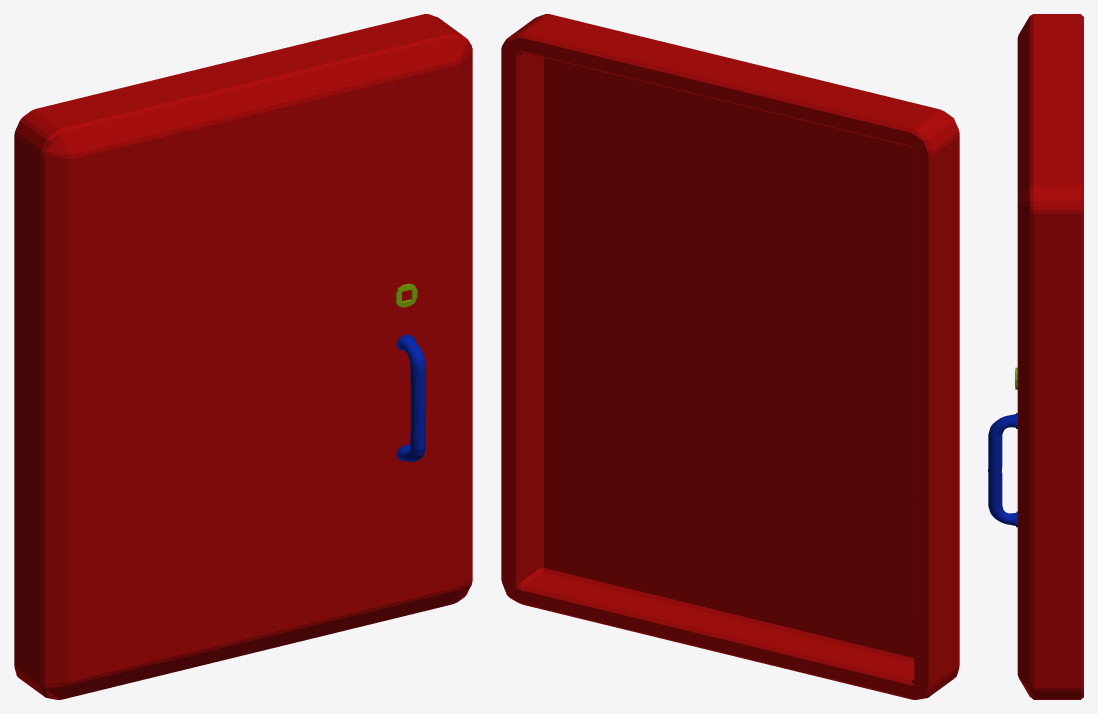
The model's file is ELECTRIC_BOX_DOOR.fbx.
The picture shows the model from 3 angles, left to right: view 1: azimuth 30°, elevation 25°; view 2: azimuth 150°, elevation 25°; view 3: azimuth 270°, elevation 25°; orthographic projection. The views are drawn at different scales.
Visible parts, largest first — view 1: EB_FRONT; view 2: EB_FRONT; view 3: EB_FRONT.
Part boxes in pixels (x1,y1,x2,y2): EB_FRONT: [14, 14, 472, 699]; EB_FRONT: [501, 14, 959, 699]; EB_FRONT: [988, 14, 1083, 699].
Size of the model in its own units: 79.13 by 100 by 16.94.
